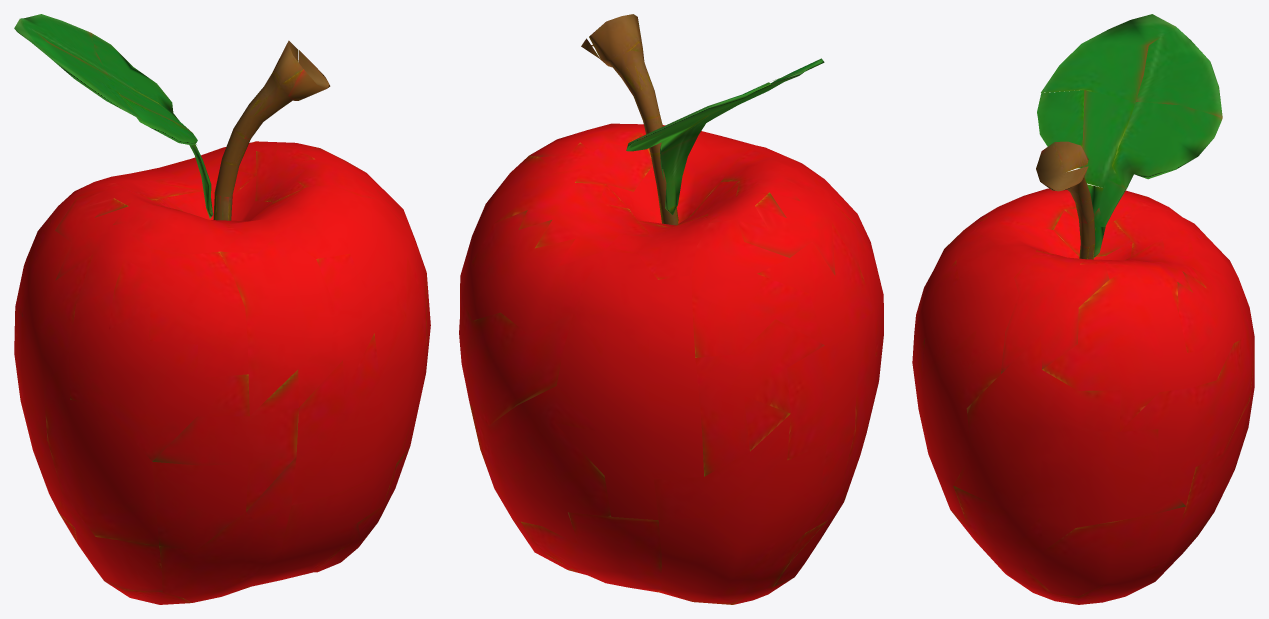
The model's file is apple.glb.
The picture shows the model from 3 angles, left to right: view 1: azimuth 30°, elevation 25°; view 2: azimuth 150°, elevation 25°; view 3: azimuth 270°, elevation 25°; orthographic projection. The views are drawn at different scales.
Visible parts, largest first — view 1: apple; view 2: apple; view 3: apple.
Part boxes in pixels (<box>): apple: <box>14,14,430,604</box>; apple: <box>459,14,883,604</box>; apple: <box>912,14,1254,604</box>.
Bounding box in the file's own units: 0.149 × 0.2229 × 0.1419.
Materials: 1 (1 with a texture image).
